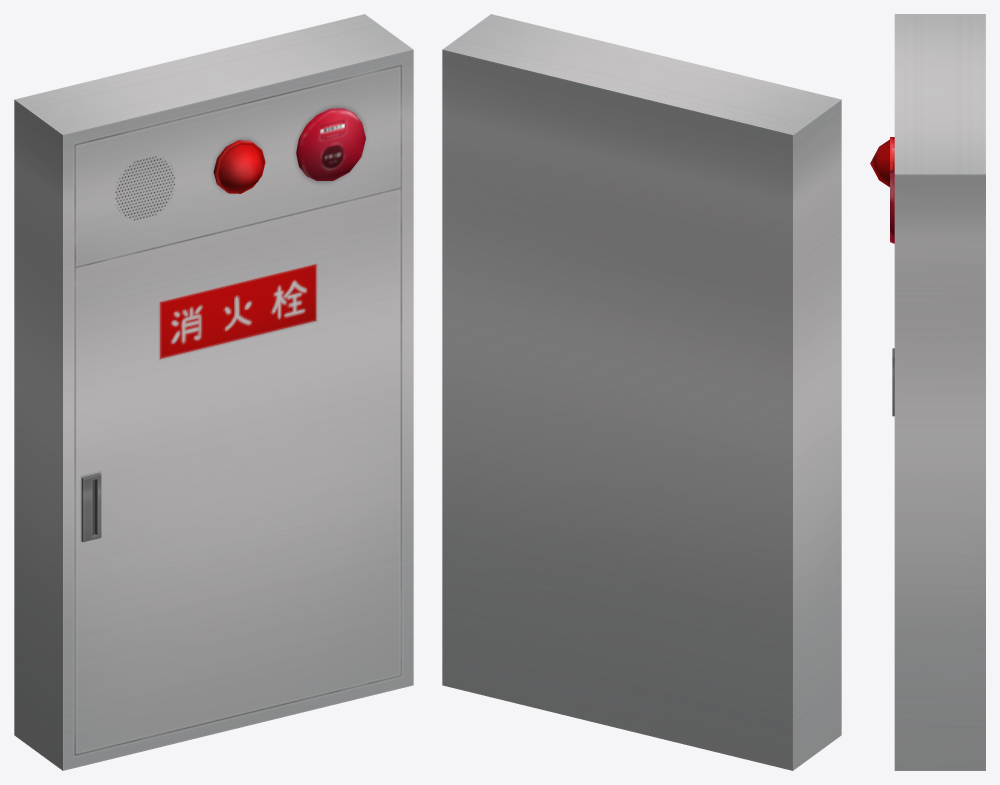
File: set_fire_hydrant_01_01.fbx
3 views of the same model, side by side, from view 1: azimuth 30°, elevation 25°; view 2: azimuth 150°, elevation 25°; view 3: azimuth 270°, elevation 25° (orthographic). The views are drawn at different scales.
Parts seen in each view (by area): view 1: set_fire_hydrant_01_01; view 2: set_fire_hydrant_01_01; view 3: set_fire_hydrant_01_01.
Part boxes in pixels (box(x1,y1,x2,y2)): set_fire_hydrant_01_01: box(14, 14, 413, 770); set_fire_hydrant_01_01: box(442, 14, 841, 770); set_fire_hydrant_01_01: box(870, 14, 985, 770).
Bounding box in the file's own units: 75 × 130 × 22.89.
